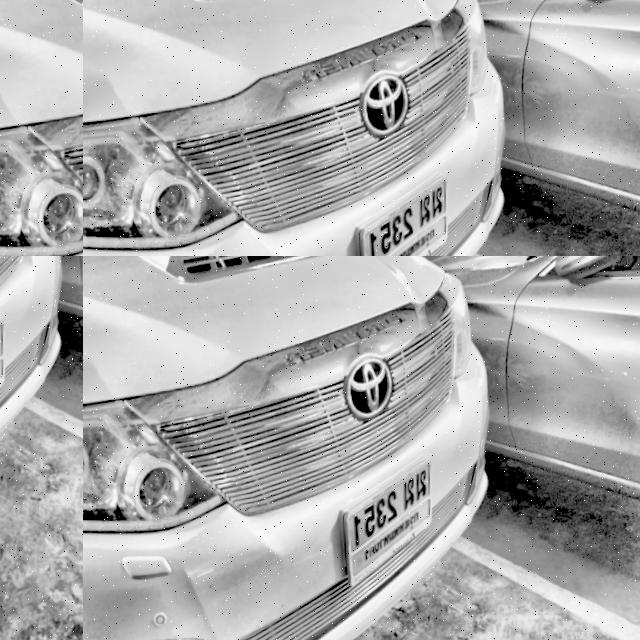license-plate: (335, 460, 436, 594)
